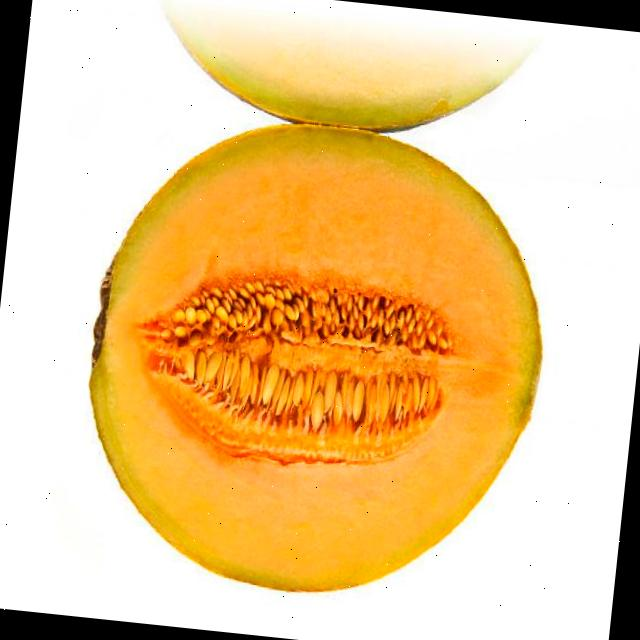Hami Melon: (72, 101, 566, 614)
